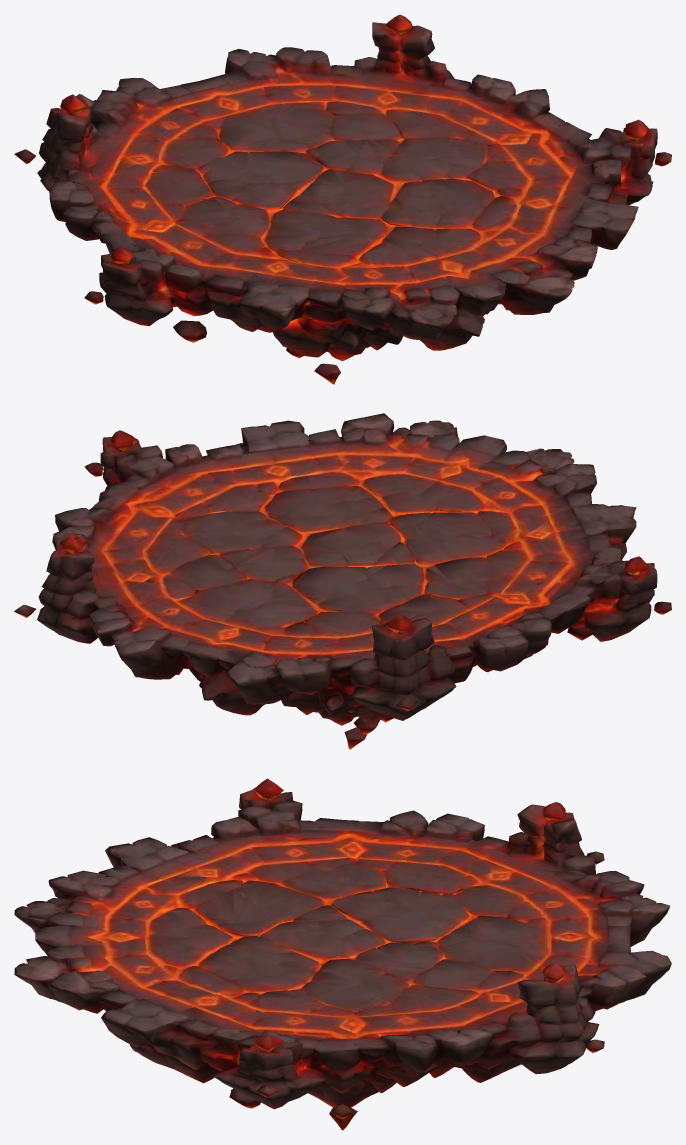
File: R3_Island_Arena.fbx
3 renders of one model, top to bottom at view 1: azimuth 30°, elevation 25°; view 2: azimuth 150°, elevation 25°; view 3: azimuth 270°, elevation 25°, orthographic.
Visible parts, largest first — view 1: R3_Island_Arena; view 2: R3_Island_Arena; view 3: R3_Island_Arena.
Boxes of the visible parts, box(x1,y1,x2,y2) form: R3_Island_Arena: box(14, 14, 671, 384); R3_Island_Arena: box(14, 413, 671, 749); R3_Island_Arena: box(14, 778, 671, 1130).
Size of the model in its own units: 1350 by 550 by 1300.
Materials: 1 (1 with a texture image).
